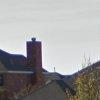Chimney: (22, 28, 48, 79)
